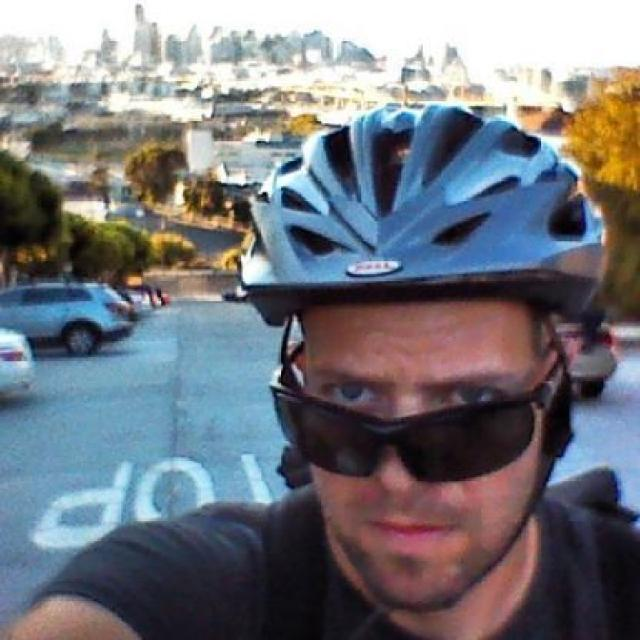face_nomask: (301, 352, 527, 557)
glasses: (255, 379, 573, 476)
head_helmet: (232, 97, 611, 325)
